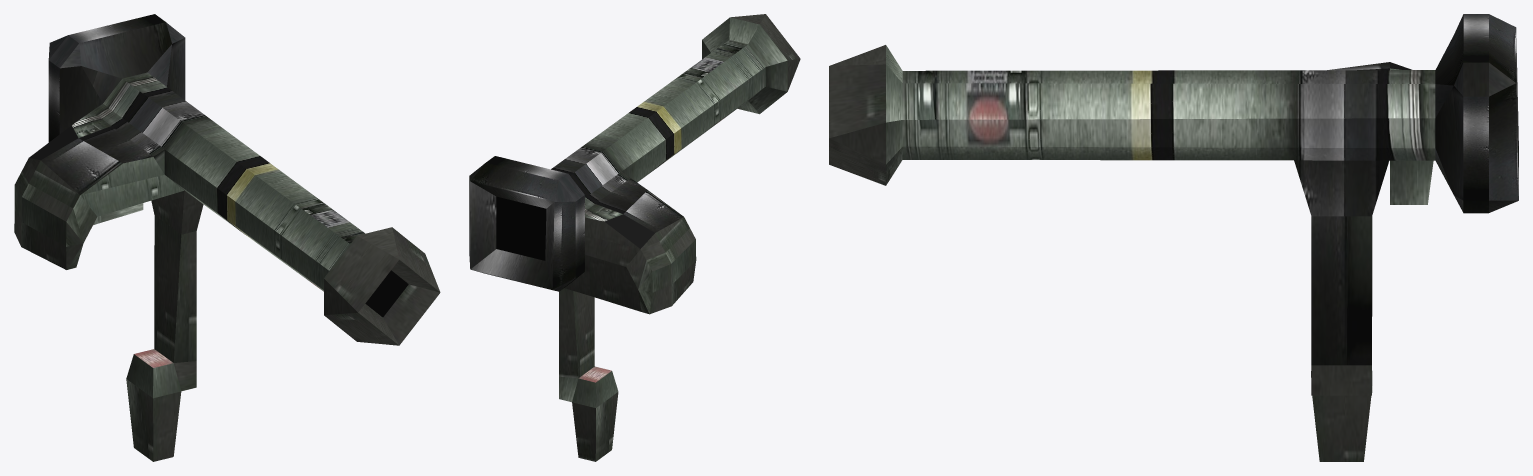
File: Rocket.fbx
3 renders of one model, left to right at view 1: azimuth 30°, elevation 25°; view 2: azimuth 150°, elevation 25°; view 3: azimuth 270°, elevation 25°, orthographic. The views are drawn at different scales.
Visible parts, largest first — view 1: Rocket; view 2: Rocket; view 3: Rocket.
Part boxes in pixels (x1,y1,x2,y2): Rocket: (14, 14, 440, 461); Rocket: (469, 14, 800, 461); Rocket: (829, 14, 1518, 461).
Size of the model in its own units: 3.82 by 6.99 by 10.16.
